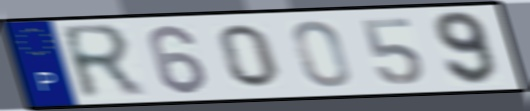0: (216, 22, 286, 91), (291, 19, 354, 90)
5: (356, 15, 426, 87)
6: (144, 22, 211, 96)
9: (432, 9, 502, 89)
R: (56, 21, 150, 103)
